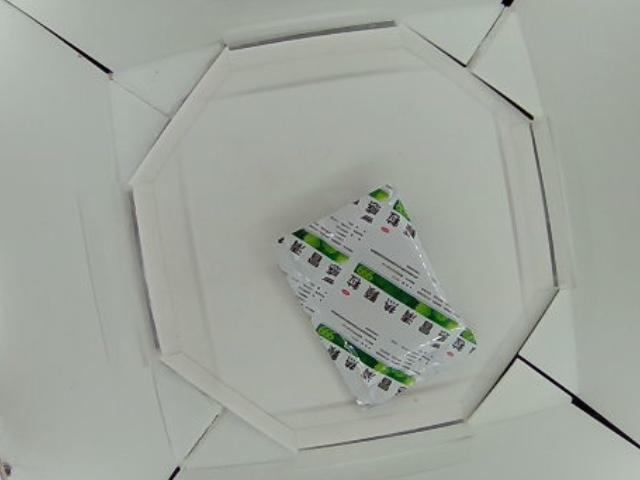Medicine: (277, 184, 480, 410)
